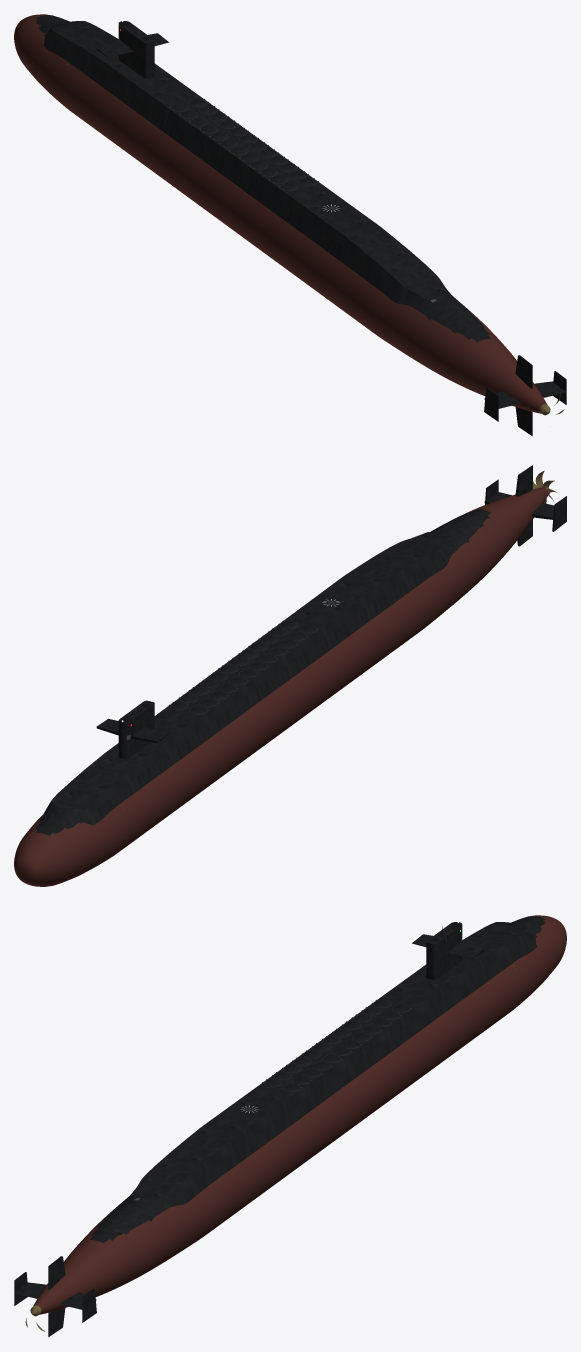
Rendered from ssgn.glb.
3 renders of one model, top to bottom at view 1: azimuth 30°, elevation 25°; view 2: azimuth 150°, elevation 25°; view 3: azimuth 330°, elevation 25°, orthographic.
Parts seen in each view (by area): view 1: ssgn_static; view 2: ssgn_static; view 3: ssgn_static.
Part boxes in pixels (box(x1,y1,x2,y2)): ssgn_static: box(14, 14, 566, 436); ssgn_static: box(14, 465, 566, 886); ssgn_static: box(14, 915, 566, 1337).
Bounding box in the file's own units: 13.1 × 21.8 × 171.
13 materials, 1 textured.
